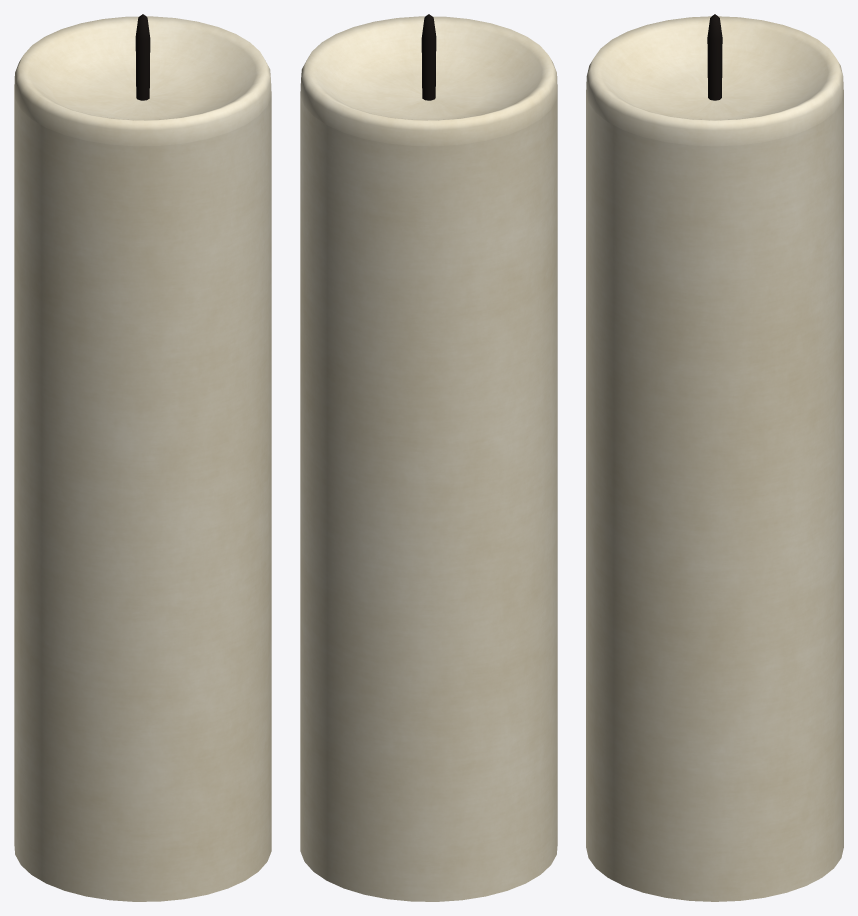
Rendered from vela.obj.
3 views of the same model, side by side, from view 1: azimuth 30°, elevation 25°; view 2: azimuth 150°, elevation 25°; view 3: azimuth 270°, elevation 25° (orthographic).
Parts seen in each view (by area): view 1: cuerpo, mecha; view 2: cuerpo, mecha; view 3: cuerpo, mecha.
Boxes of the visible parts, x1,y1,x2,y2 form: cuerpo: (14,16,271,901); mecha: (135,14,150,100); cuerpo: (300,16,557,901); mecha: (421,14,436,100); cuerpo: (586,16,843,901); mecha: (707,14,722,100).
Size of the model in its own units: 0.3 by 1.07 by 0.3.
Materials: 2 (1 with a texture image).
